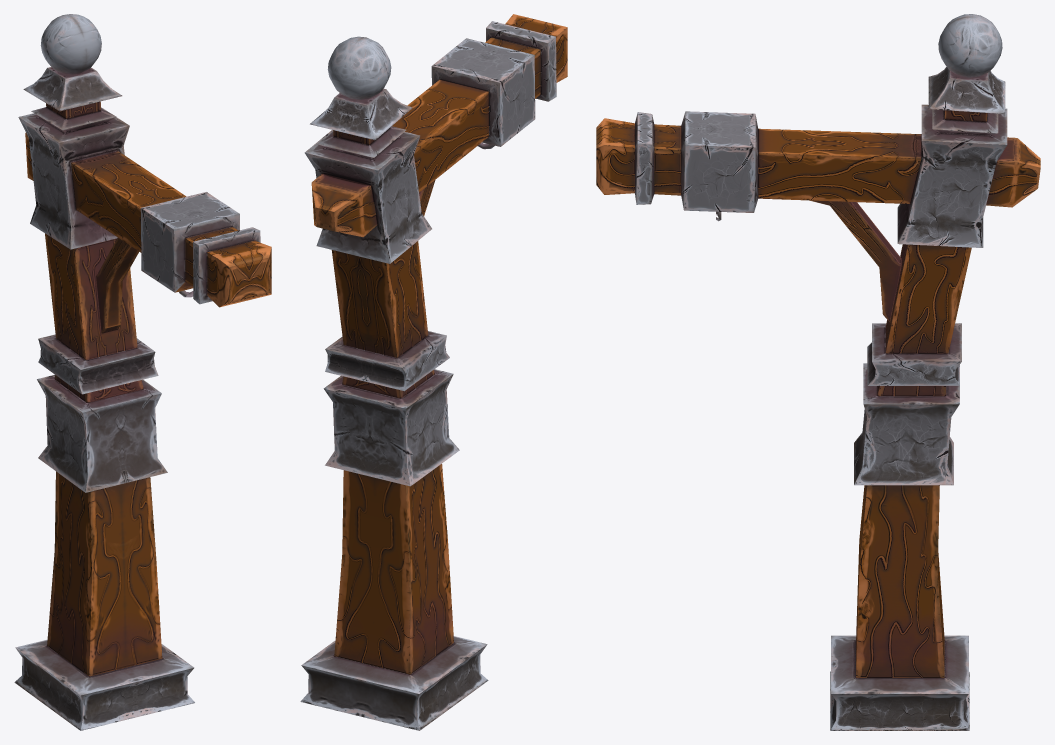
Rendered from lampPost.glb.
The picture shows the model from 3 angles, left to right: view 1: azimuth 30°, elevation 25°; view 2: azimuth 150°, elevation 25°; view 3: azimuth 270°, elevation 25°; orthographic projection. The views are drawn at different scales.
Visible parts, largest first — view 1: Object_2; view 2: Object_2; view 3: Object_2.
Part boxes in pixels (<box>): Object_2: <box>14,14,271,730</box>; Object_2: <box>300,14,567,730</box>; Object_2: <box>596,14,1040,730</box>.
Bounding box in the file's own units: 1.51 × 8.18 × 4.82.
Materials: 1 (1 with a texture image).
